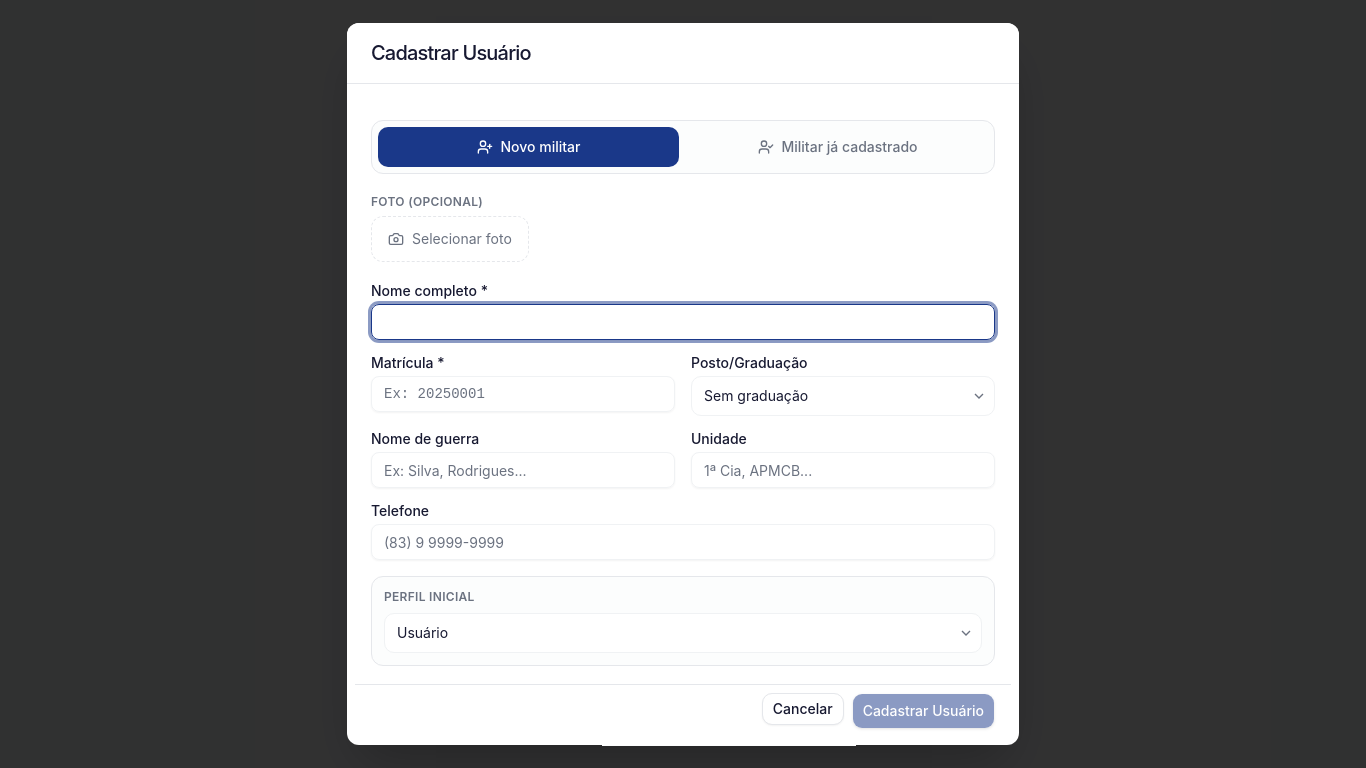
Test: CadastrarUsuarioDialog — modo novo: e-mail de acesso falhou › militar criado + convite falha (409 e-mail em uso) → tela de aviso, NÃO 'sucesso'
The image size is (1366, 768).
Type "Fulano de Tal" into the field labelled "Nome completo *" at (683, 322), box [371, 304, 995, 340]
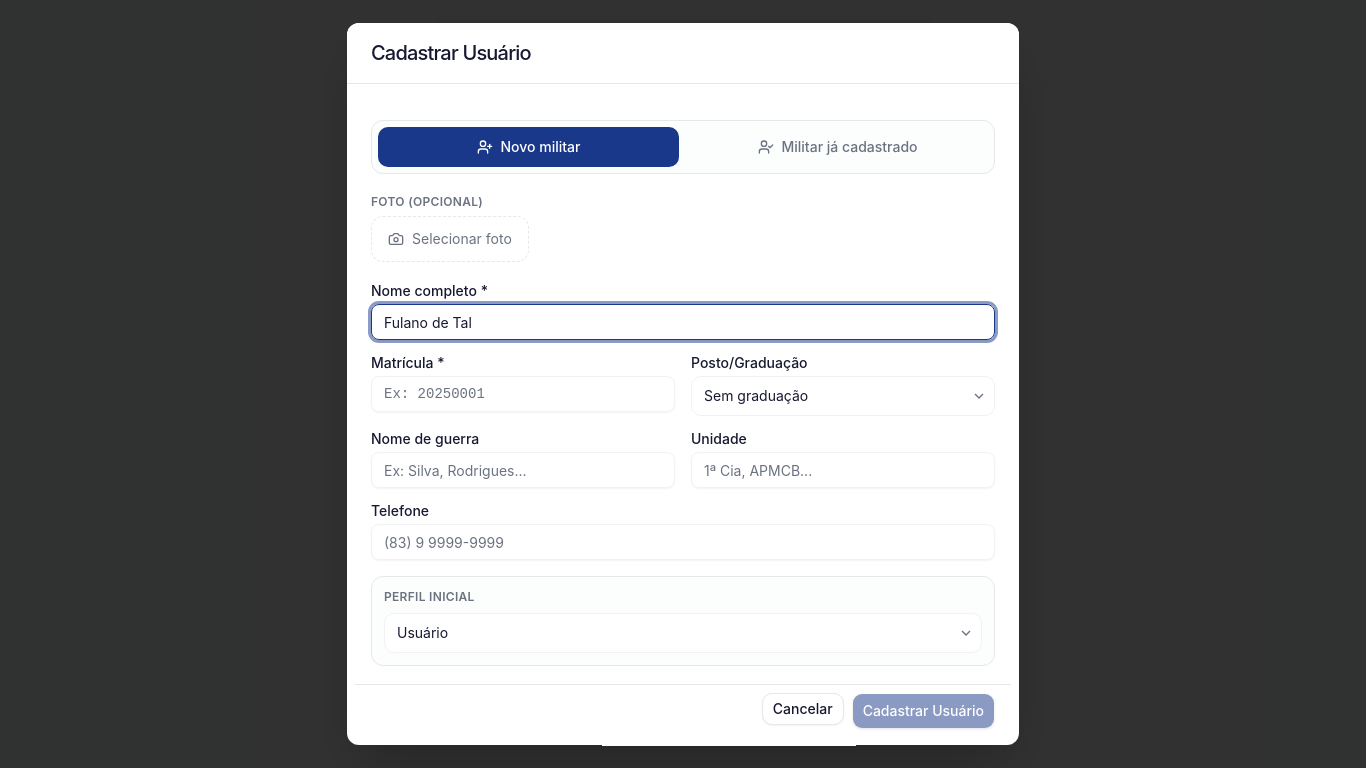
Type "20259999" into the field labelled "Matrícula *" at (523, 394), box [371, 376, 675, 412]
(page scrolled)
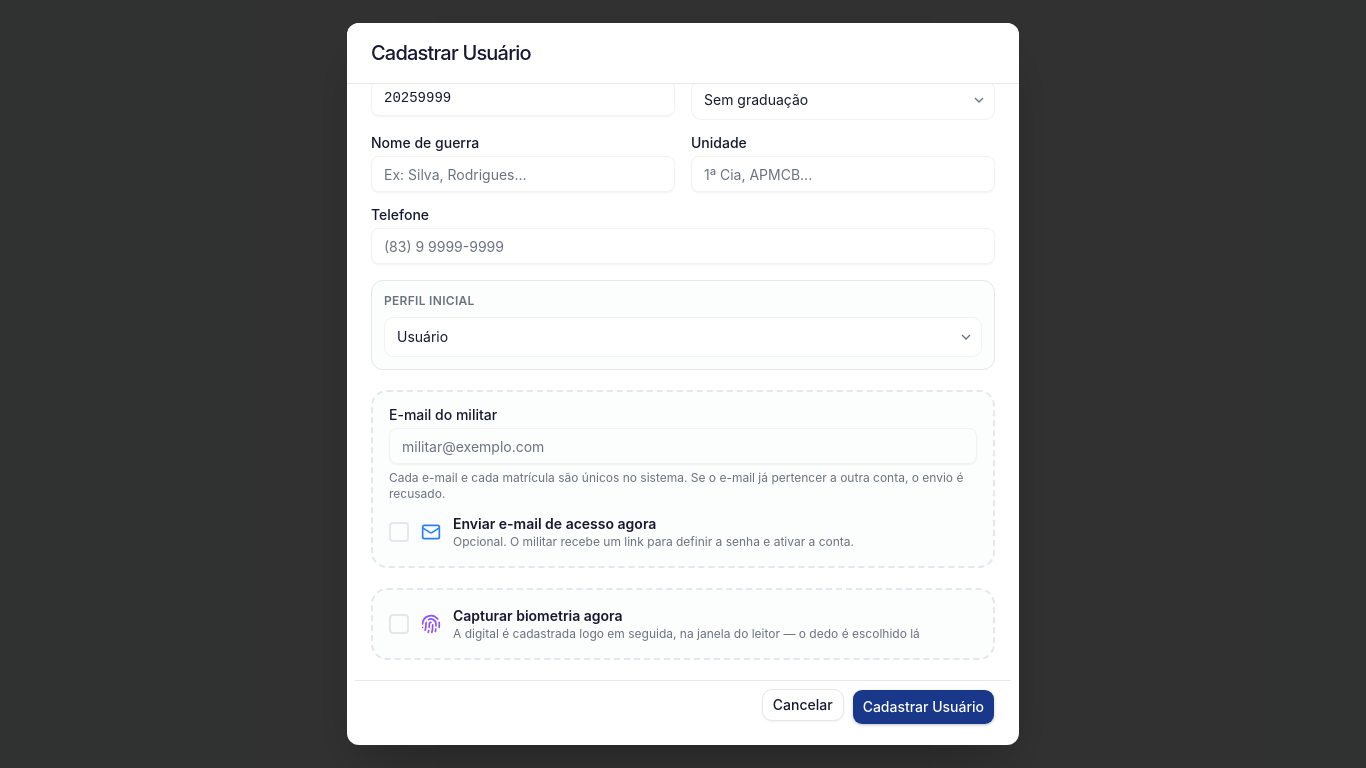
Click the text "Enviar e-mail de acesso agora" at (555, 524), box [453, 515, 656, 532]
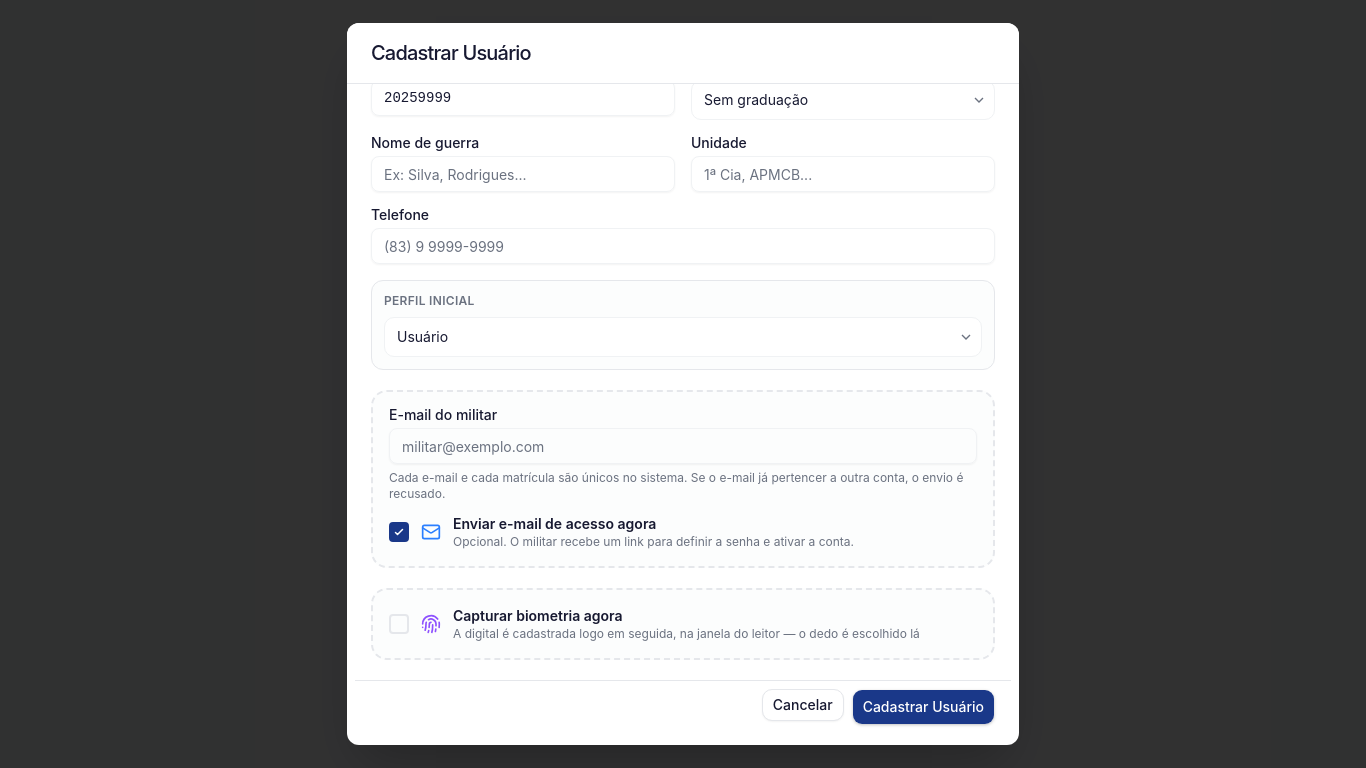
Type "fulano@exemplo.com" into the field labelled "E-mail do militar" at (683, 446), box [389, 428, 977, 464]
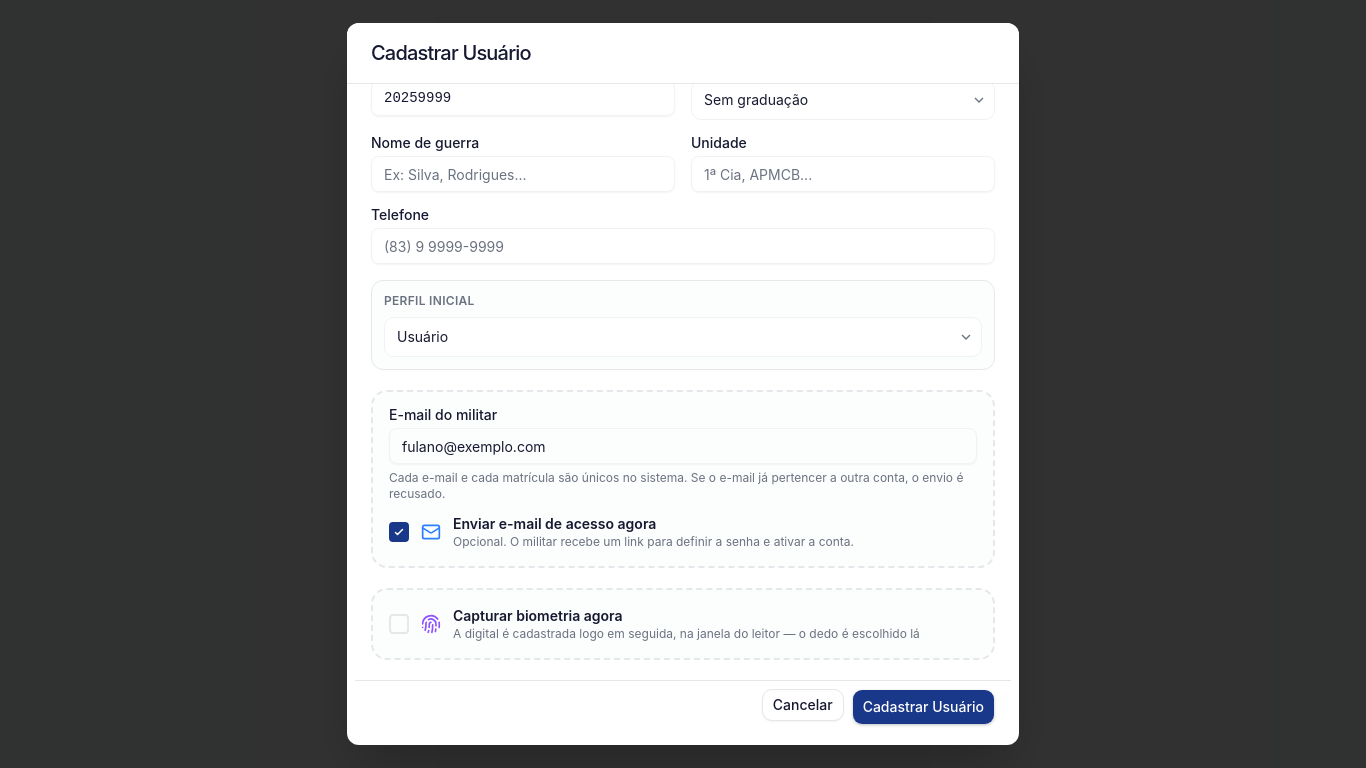
Click the button with test id "cm-submit-btn" at (923, 707), box [852, 689, 995, 725]
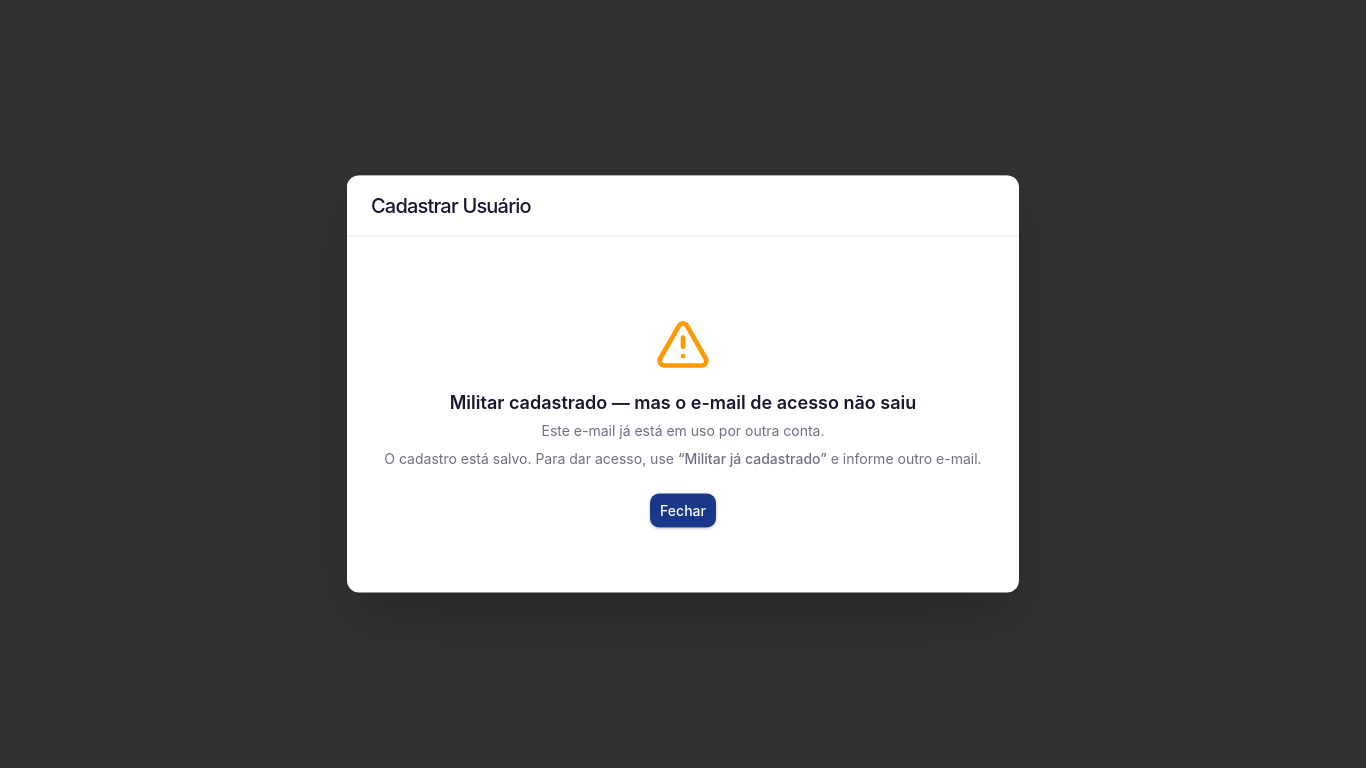
Expected: the text "Militar cadastrado — mas o e-mail de acesso não saiu" is shown, [450, 392, 916, 412]
Expected: the text "Este e-mail já está em uso por outra conta." is shown, [542, 422, 825, 438]
